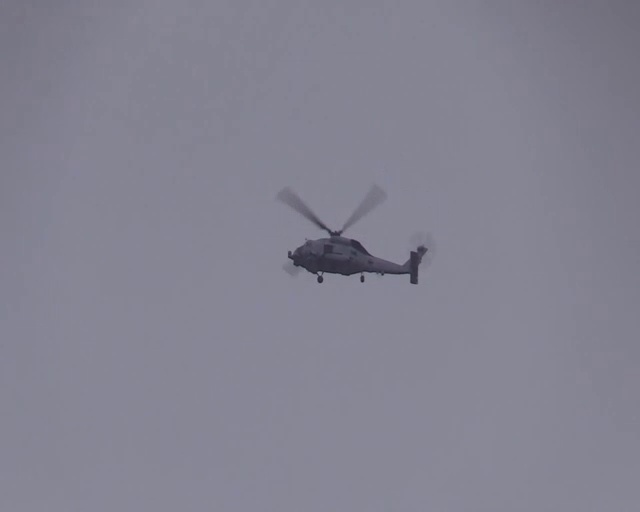HELICOPTER: (273, 182, 427, 284)
